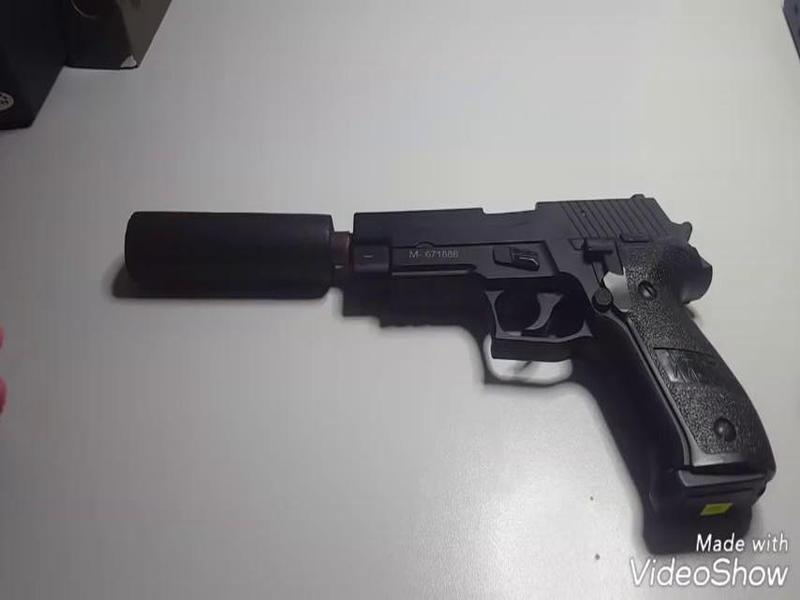Pistola: (348, 188, 787, 520)
